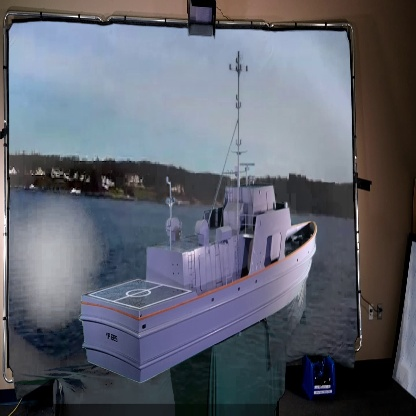YP689: (77, 48, 318, 386)
